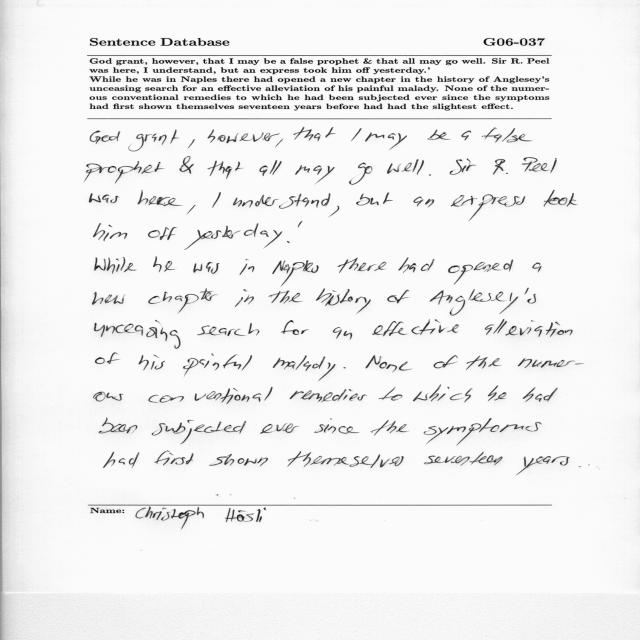word: (424, 418, 542, 446), (430, 288, 536, 316), (184, 223, 283, 250), (95, 320, 181, 349), (152, 420, 246, 444), (148, 387, 273, 404), (451, 194, 525, 221), (287, 451, 404, 468), (84, 162, 164, 184), (149, 289, 218, 314), (448, 259, 514, 285), (273, 355, 336, 381), (183, 353, 252, 376), (485, 319, 573, 337), (233, 193, 330, 209), (372, 320, 459, 337), (316, 288, 371, 313), (273, 261, 319, 287), (424, 452, 502, 466), (413, 385, 473, 403), (128, 130, 179, 151), (208, 130, 280, 144), (290, 389, 367, 402), (198, 323, 260, 336), (366, 355, 412, 372), (482, 128, 533, 143), (338, 258, 387, 273), (295, 165, 335, 183), (315, 418, 360, 434), (365, 133, 407, 150), (95, 257, 137, 274), (209, 454, 268, 466), (138, 190, 182, 206), (207, 160, 243, 179), (516, 456, 551, 475), (94, 224, 128, 242), (371, 420, 409, 436), (293, 127, 336, 141), (518, 359, 584, 368), (387, 159, 424, 175), (544, 190, 578, 207), (104, 452, 140, 468), (99, 418, 137, 433), (522, 157, 557, 173), (398, 258, 435, 273), (349, 162, 373, 185), (155, 451, 194, 465), (522, 387, 558, 402), (466, 355, 501, 370), (356, 193, 393, 206), (269, 291, 303, 304), (450, 159, 477, 175), (260, 423, 299, 434), (281, 320, 309, 335), (92, 292, 124, 305), (139, 355, 165, 371), (90, 131, 120, 144), (148, 227, 177, 240), (260, 160, 282, 176), (153, 257, 176, 272), (235, 289, 254, 307), (379, 387, 403, 401), (194, 262, 220, 274), (434, 355, 458, 368), (89, 193, 119, 203), (94, 392, 123, 402), (488, 386, 506, 402), (387, 290, 409, 303), (95, 353, 120, 364), (179, 156, 194, 174), (428, 129, 450, 140), (493, 159, 508, 175), (240, 259, 255, 275), (414, 197, 435, 208), (333, 327, 352, 339), (551, 456, 570, 466), (212, 192, 221, 208), (351, 128, 362, 141), (329, 206, 339, 217), (462, 131, 472, 141), (532, 263, 542, 273), (187, 205, 196, 214), (275, 139, 284, 147), (188, 140, 195, 149), (298, 222, 303, 228), (287, 241, 290, 243), (429, 174, 431, 176), (343, 367, 346, 368), (579, 466, 581, 467)
